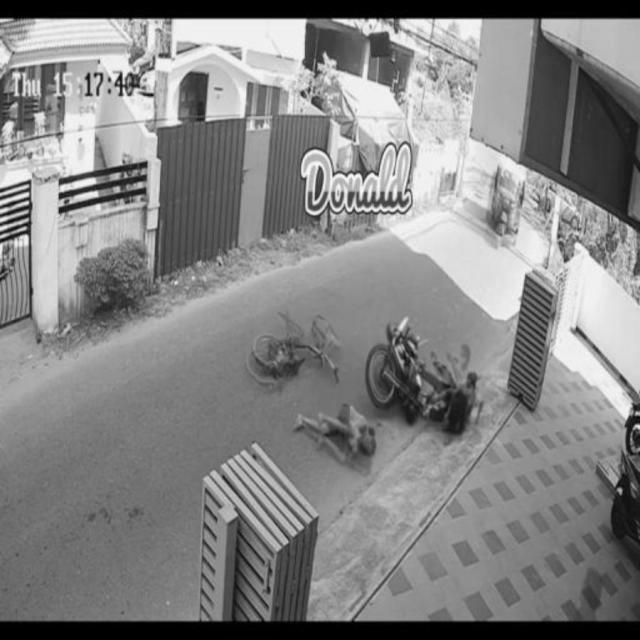vehicle: (249, 299, 345, 389), (364, 295, 426, 421), (483, 159, 524, 250)
